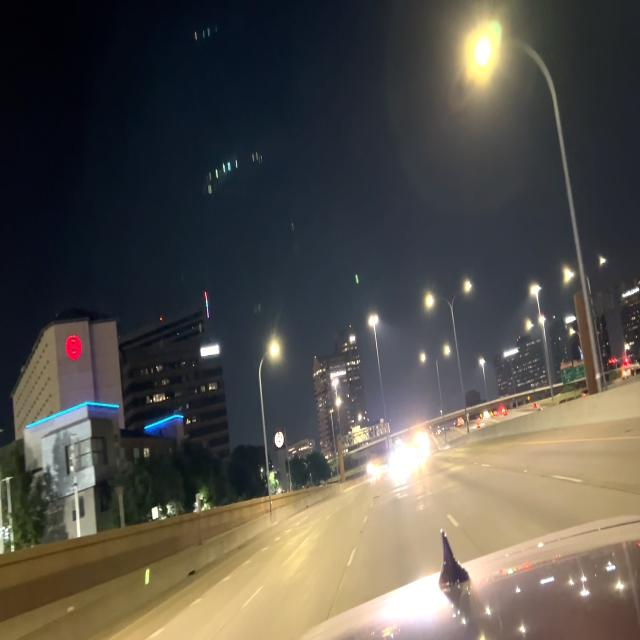back-of-sign: (351, 422, 370, 448), (375, 415, 391, 441)
